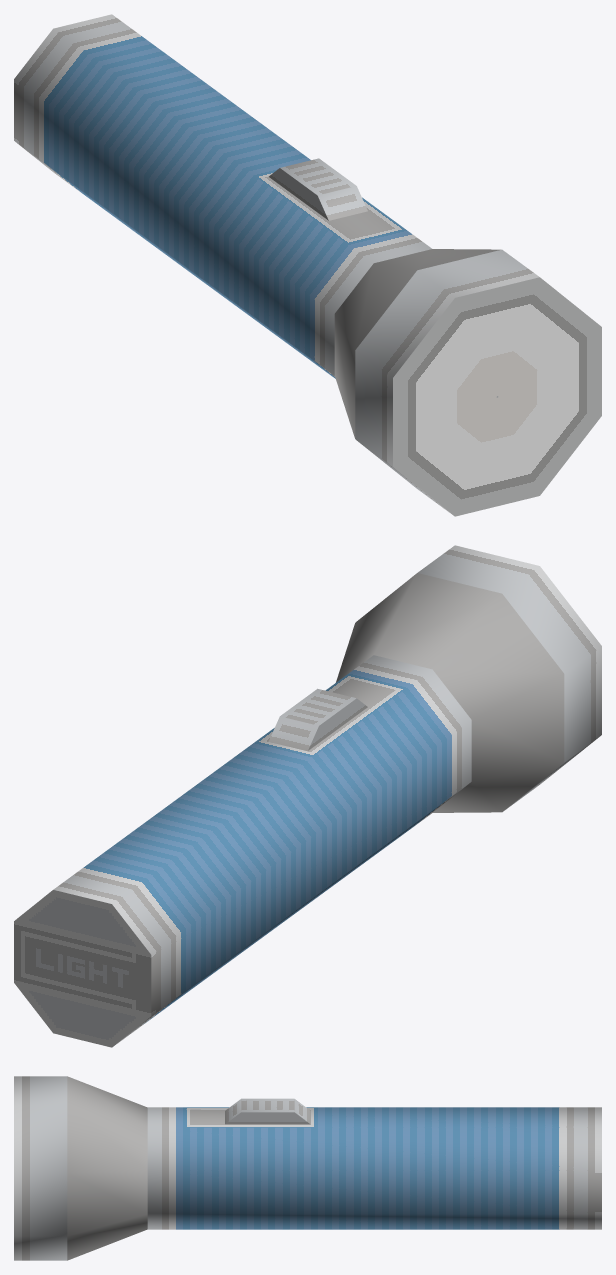
Rendered from 0481_Flashlight.glb.
The picture shows the model from 3 angles, top to bottom: view 1: azimuth 30°, elevation 25°; view 2: azimuth 150°, elevation 25°; view 3: azimuth 270°, elevation 25°; orthographic projection. The views are drawn at different scales.
Parts seen in each view (by area): view 1: part_0; view 2: part_0; view 3: part_0.
Part boxes in pixels (bbox=[...]): part_0: bbox=[14, 14, 601, 516]; part_0: bbox=[14, 545, 601, 1047]; part_0: bbox=[14, 1076, 601, 1260].
Bounding box in the file's own units: 0.064 × 0.064 × 0.22.
1 material, 1 textured.
